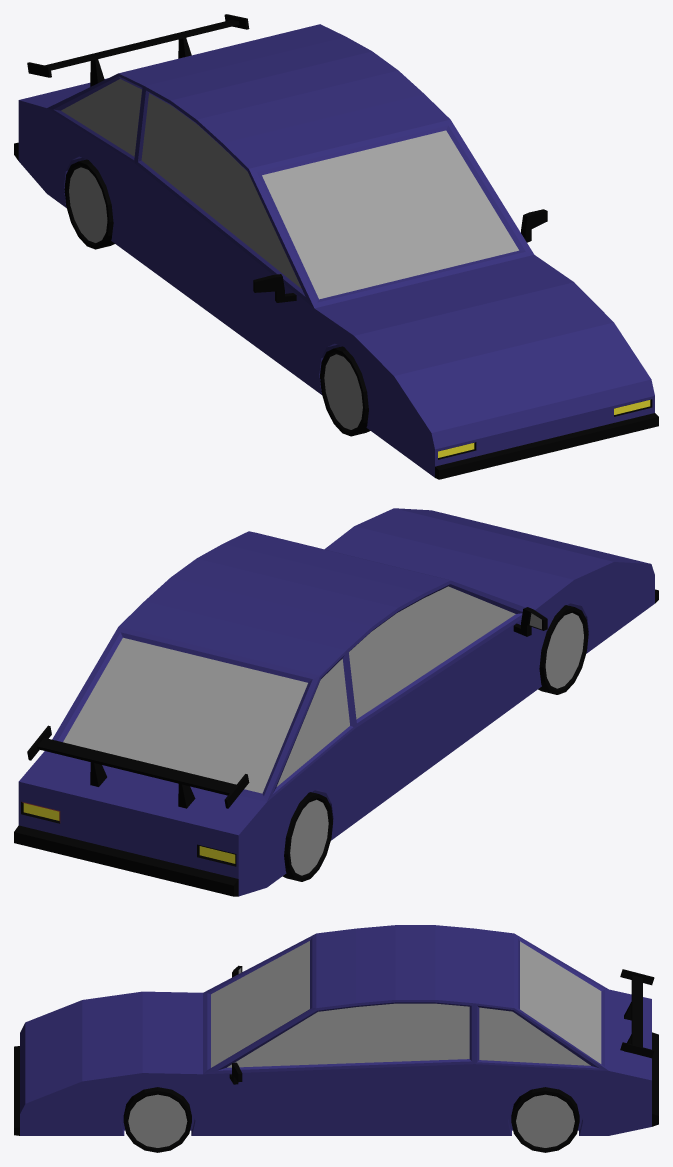
File: Sports Car 2.fbx
3 renders of one model, top to bottom at view 1: azimuth 30°, elevation 25°; view 2: azimuth 150°, elevation 25°; view 3: azimuth 270°, elevation 25°, orthographic. The views are drawn at different scales.
Visible parts, largest first — view 1: Sports Car Body.002, Wheel FR.024, Wheel RR.022; view 2: Sports Car Body.002, Wheel FR.024, Wheel RR.022; view 3: Sports Car Body.002, Wheel FL.024, Wheel RL.022.
Part boxes in pixels (bbox=[...]): Sports Car Body.002: bbox=[14, 14, 658, 479]; Wheel FR.024: bbox=[320, 346, 370, 436]; Wheel RR.022: bbox=[64, 159, 114, 249]; Sports Car Body.002: bbox=[14, 508, 658, 896]; Wheel FR.024: bbox=[538, 605, 588, 694]; Wheel RR.022: bbox=[282, 792, 332, 881]; Sports Car Body.002: bbox=[14, 925, 658, 1135]; Wheel FL.024: bbox=[123, 1087, 191, 1152]; Wheel RL.022: bbox=[511, 1087, 579, 1152].
Size of the model in its own units: 1.82 by 1.16 by 4.56.
